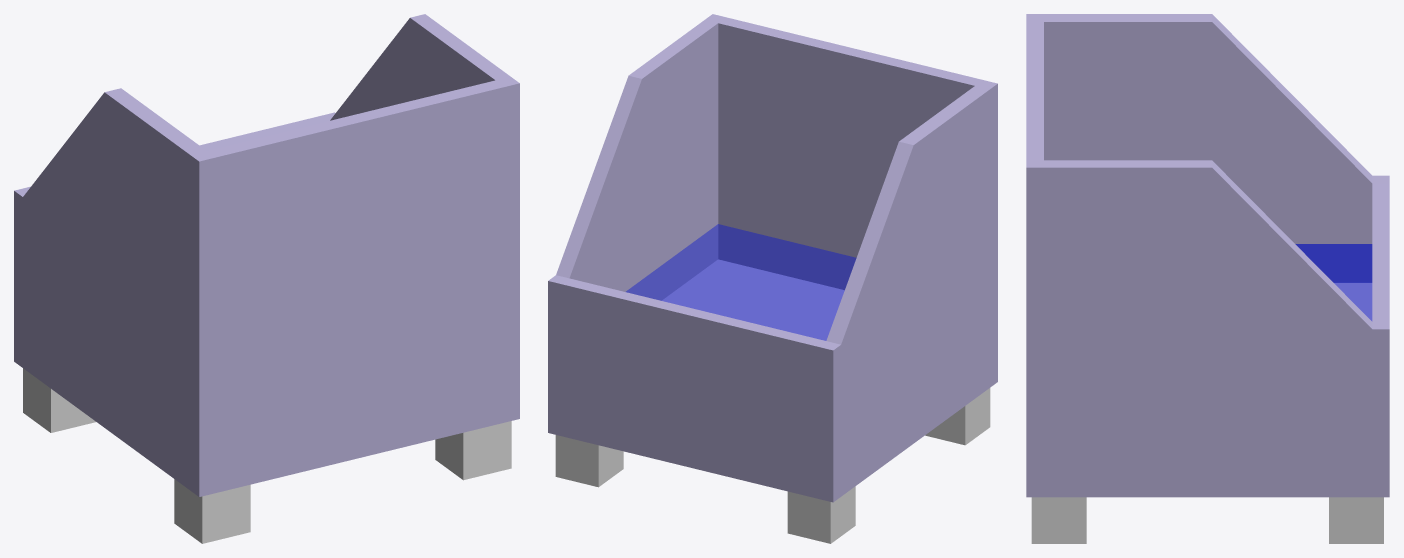
The model's file is Dishwasher.fbx.
The picture shows the model from 3 angles, left to right: view 1: azimuth 30°, elevation 25°; view 2: azimuth 150°, elevation 25°; view 3: azimuth 270°, elevation 25°; orthographic projection. The views are drawn at different scales.
Visible parts, largest first — view 1: Cube, Cube.003, Cube.004, Cube.002; view 2: Cube, water, Cube.002, Cube.001, Cube.003; view 3: Cube, water, Cube.004, Cube.001.
Part boxes in pixels (left/top/right/bottom): Cube: left=14, top=14, right=519, bottom=496; Cube.003: left=174, top=479, right=250, bottom=543; Cube.004: left=435, top=421, right=511, bottom=480; Cube.002: left=23, top=368, right=95, bottom=432; Cube: left=548, top=14, right=997, bottom=502; water: left=626, top=224, right=856, bottom=340; Cube.002: left=787, top=486, right=855, bottom=543; Cube.001: left=555, top=435, right=623, bottom=487; Cube.003: left=925, top=388, right=990, bottom=445; Cube: left=1026, top=14, right=1389, bottom=497; water: left=1295, top=244, right=1372, bottom=320; Cube.004: left=1031, top=497, right=1086, bottom=543; Cube.001: left=1329, top=497, right=1383, bottom=543.
Size of the model in its own units: 397 by 457 by 397.
